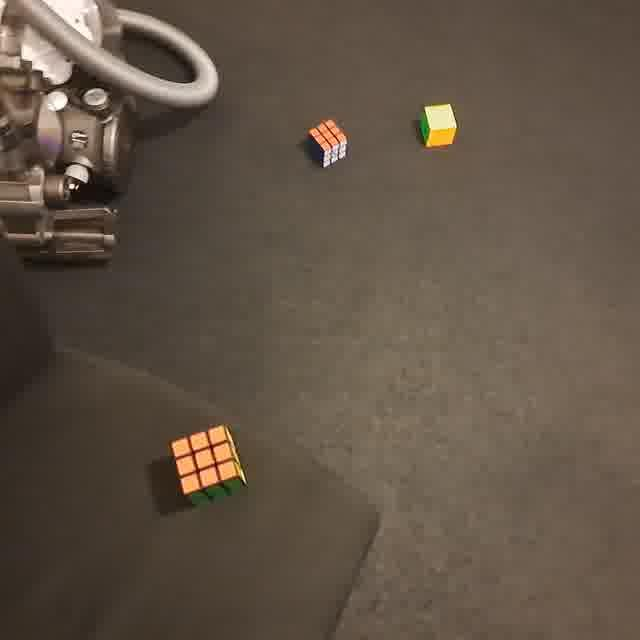rubix_cube: (167, 422, 251, 510), (305, 117, 349, 171), (418, 102, 460, 149)
